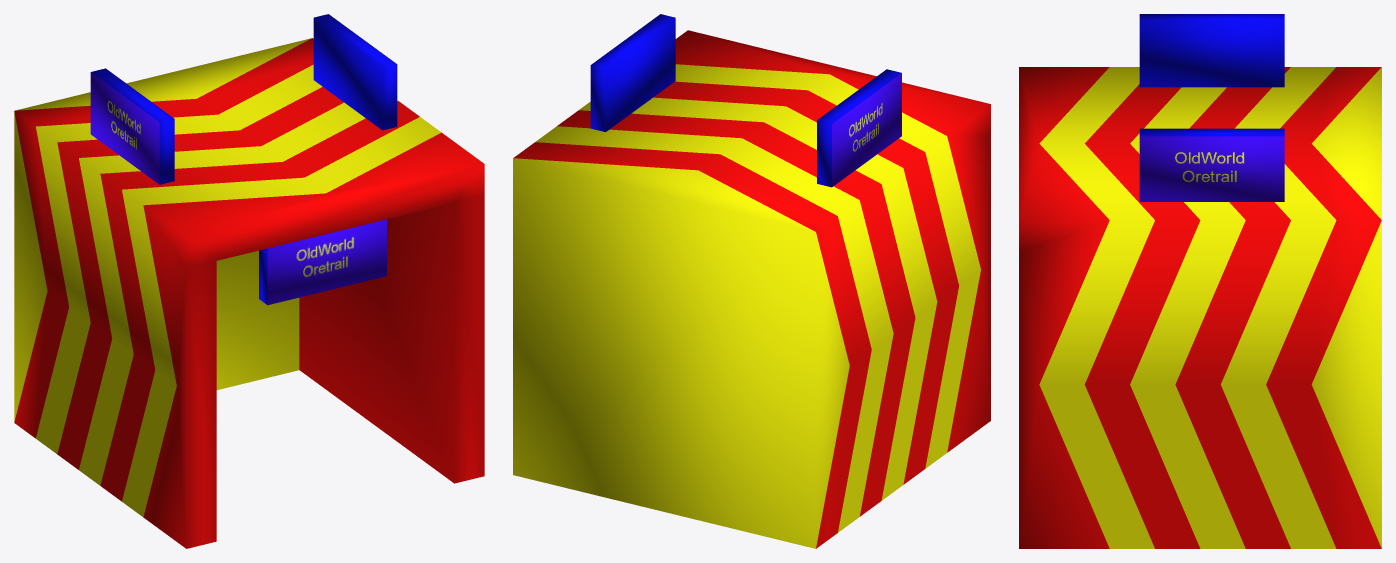
Rendered from NW_ORETRAIL_BETA.glb.
3 views of the same model, side by side, from view 1: azimuth 30°, elevation 25°; view 2: azimuth 150°, elevation 25°; view 3: azimuth 270°, elevation 25° (orthographic). The views are drawn at different scales.
Visible parts, largest first — view 1: Mesh; view 2: Mesh; view 3: Mesh.
Part boxes in pixels (<box>): Mesh: <box>14,14,484,548</box>; Mesh: <box>513,14,990,548</box>; Mesh: <box>1019,14,1381,548</box>.
Size of the model in its own units: 5 by 6.04 by 5.
4 materials, 1 textured.
